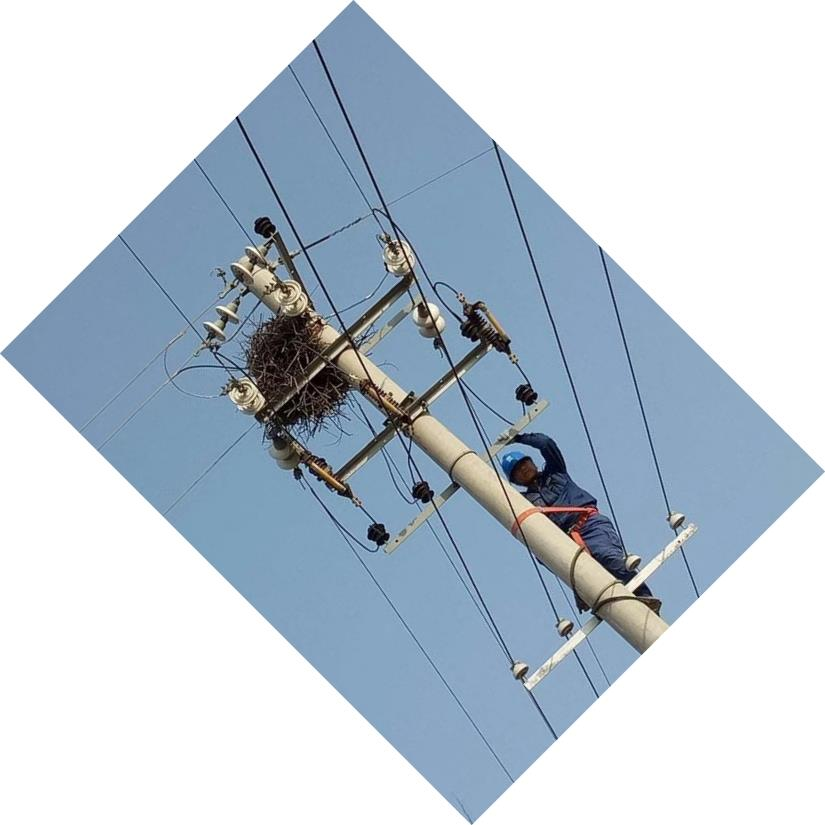niaowo: (236, 313, 365, 430)
